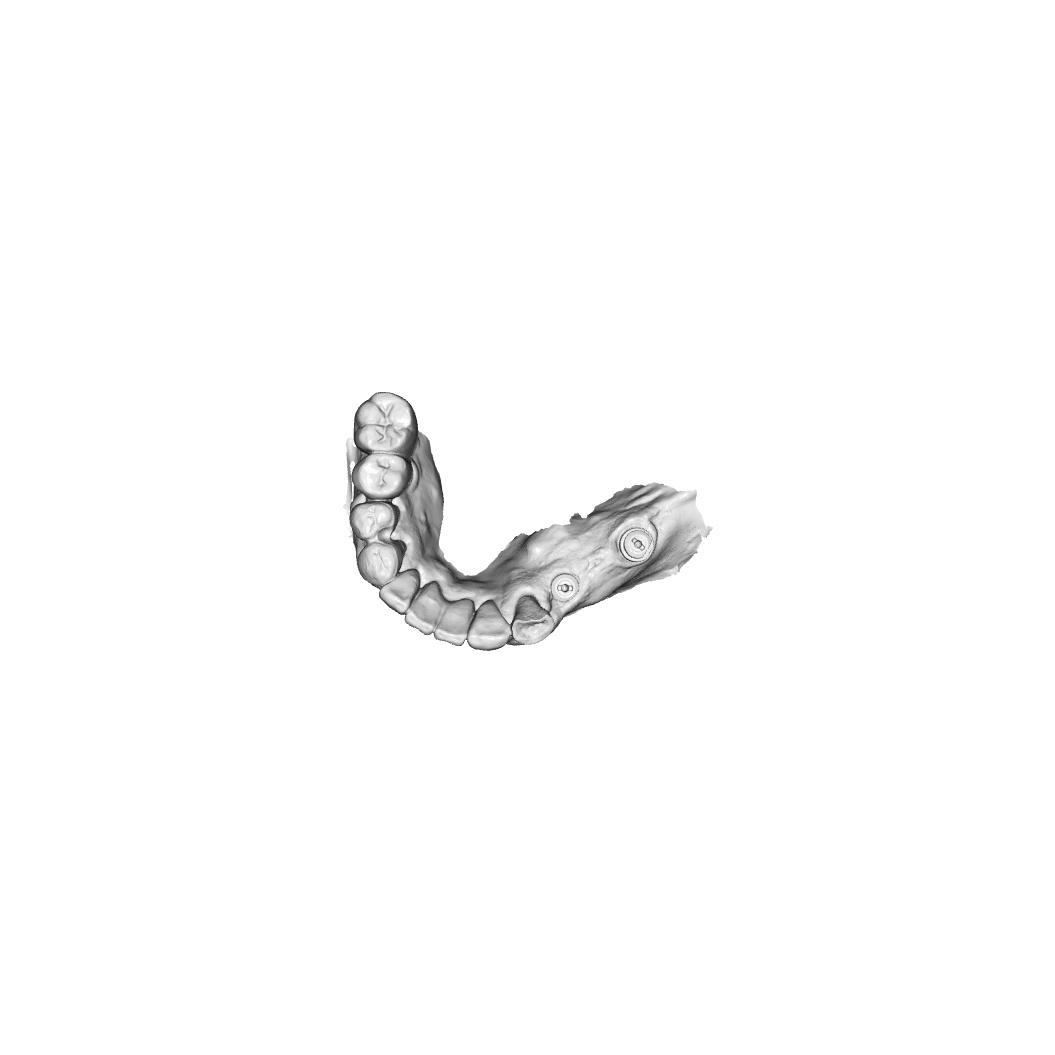canine: (357, 539, 407, 589), (512, 595, 556, 646)
implant_minus: (618, 526, 655, 564), (550, 572, 580, 603)
incisor: (466, 598, 511, 651), (404, 580, 445, 636), (433, 598, 475, 647), (378, 568, 421, 615)
molar: (353, 391, 419, 457)
premolar: (350, 452, 414, 499), (349, 500, 401, 541)
